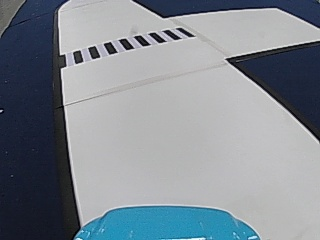CrossWalk: (65, 27, 190, 65)
